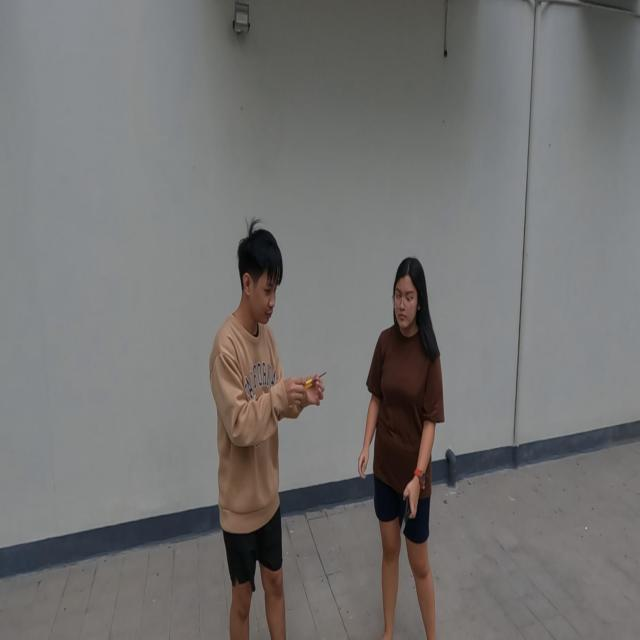scissor: (302, 370, 328, 401), (401, 496, 414, 541)
